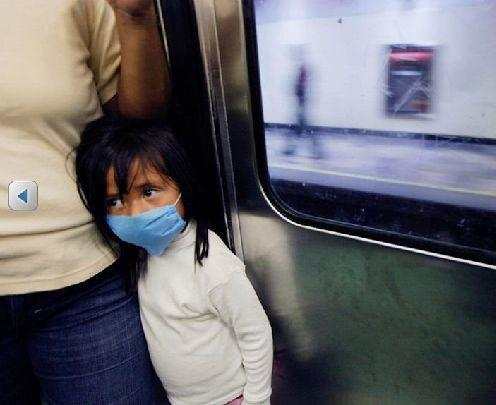WRONG: (107, 176, 182, 251)
